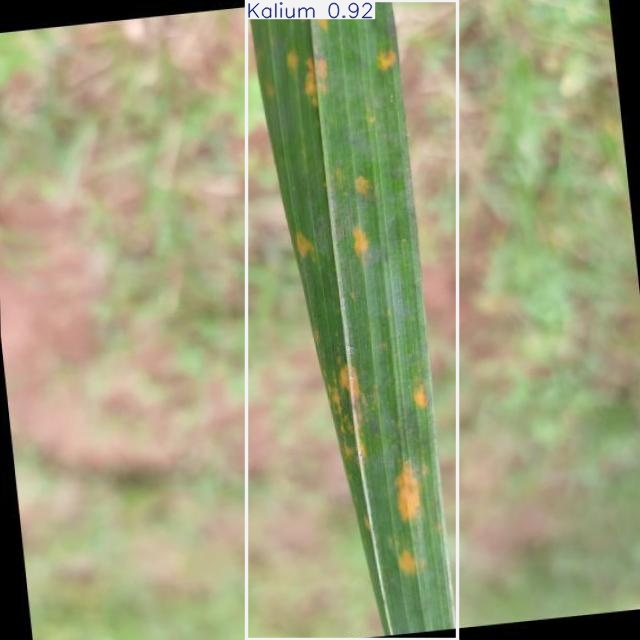Kalium: (247, 0, 457, 639)
